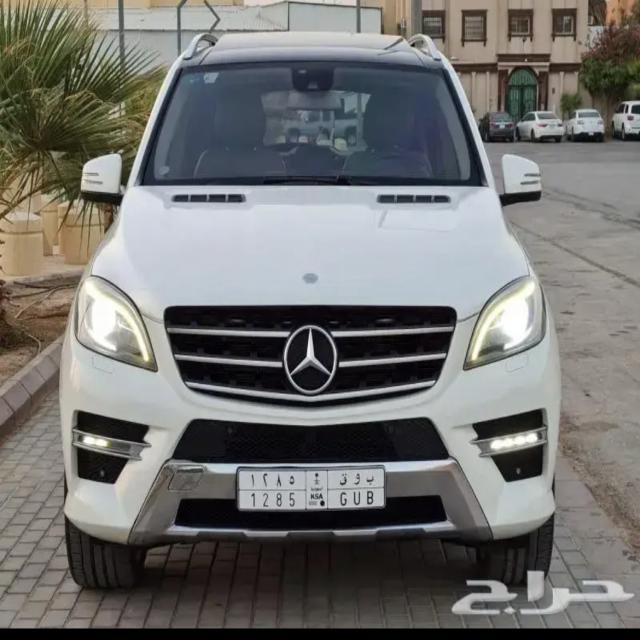license_plate: (238, 465, 386, 511)
